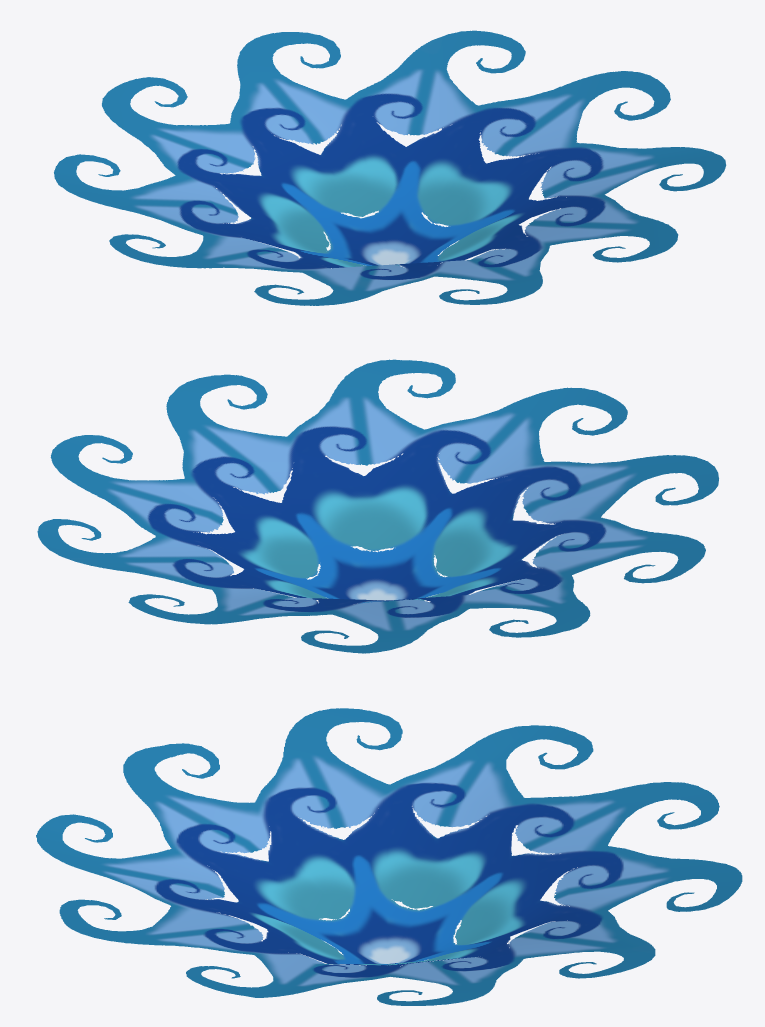
The model's file is Item_Flower_Water.fbx.
3 renders of one model, top to bottom at view 1: azimuth 30°, elevation 25°; view 2: azimuth 150°, elevation 25°; view 3: azimuth 270°, elevation 25°, orthographic. The views are drawn at different scales.
Visible parts, largest first — view 1: Item_Flower_Water; view 2: Item_Flower_Water; view 3: Item_Flower_Water.
Part boxes in pixels (<box>): Item_Flower_Water: <box>54,30,726,305</box>; Item_Flower_Water: <box>37,359,718,653</box>; Item_Flower_Water: <box>36,708,742,1005</box>.
Size of the model in its own units: 6.14 by 0.9582 by 5.95.
1 material, 1 textured.
